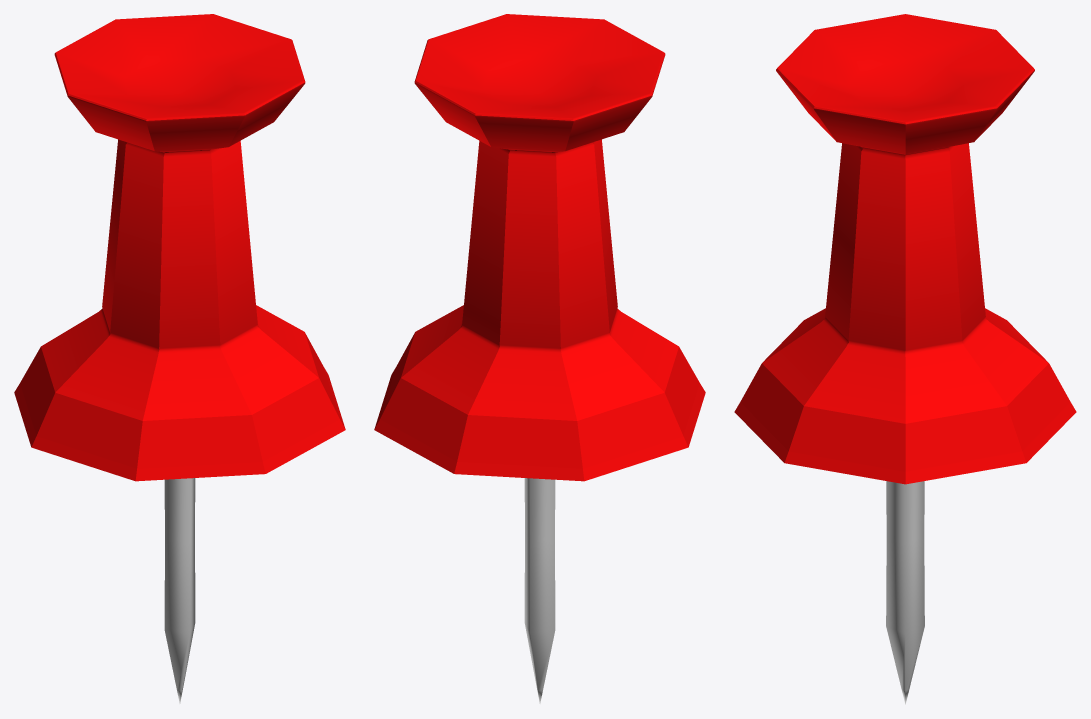
The model's file is pin.fbx.
3 renders of one model, left to right at view 1: azimuth 30°, elevation 25°; view 2: azimuth 150°, elevation 25°; view 3: azimuth 270°, elevation 25°, orthographic.
Parts seen in each view (by area): view 1: pushpin_plastic_black_1; view 2: pushpin_plastic_black_1; view 3: pushpin_plastic_black_1.
Part boxes in pixels (<box>): pushpin_plastic_black_1: <box>14,14,345,703</box>; pushpin_plastic_black_1: <box>374,14,705,703</box>; pushpin_plastic_black_1: <box>734,14,1076,704</box>.
Size of the model in its own units: 3.91 by 8.02 by 3.91.
